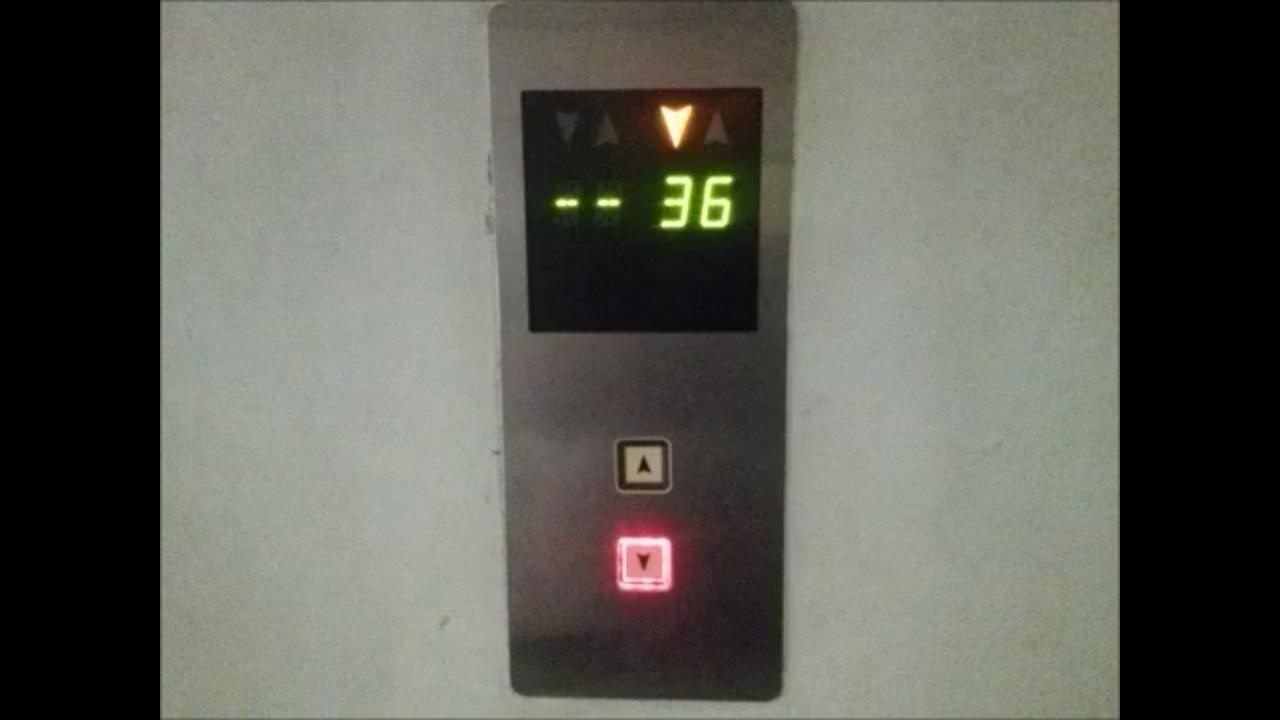down: (615, 535, 674, 593)
led: (520, 86, 765, 334)
up: (613, 436, 674, 495)
